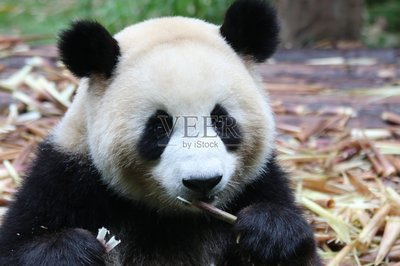panda: (9, 3, 324, 263)
